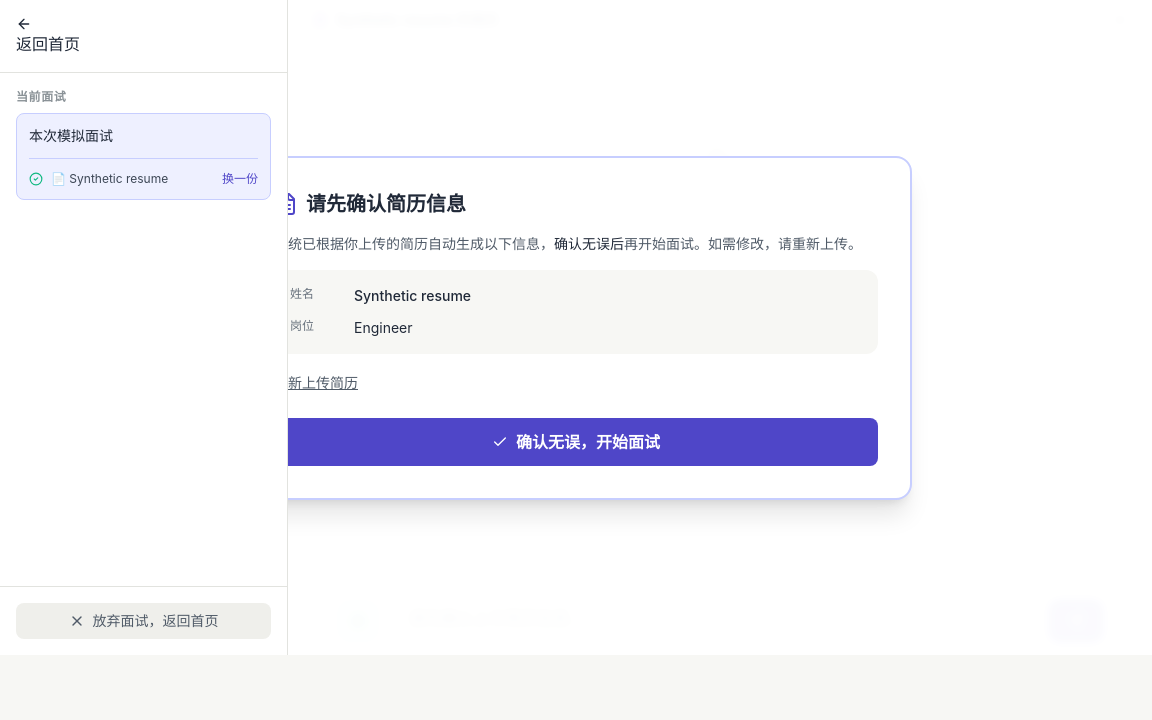
gates first answer on confirmed question protocol: valid
The width and height of the screenshot is (1152, 720).
Click the button "确认无误，开始面试" at (576, 442), box [274,418,878,466]
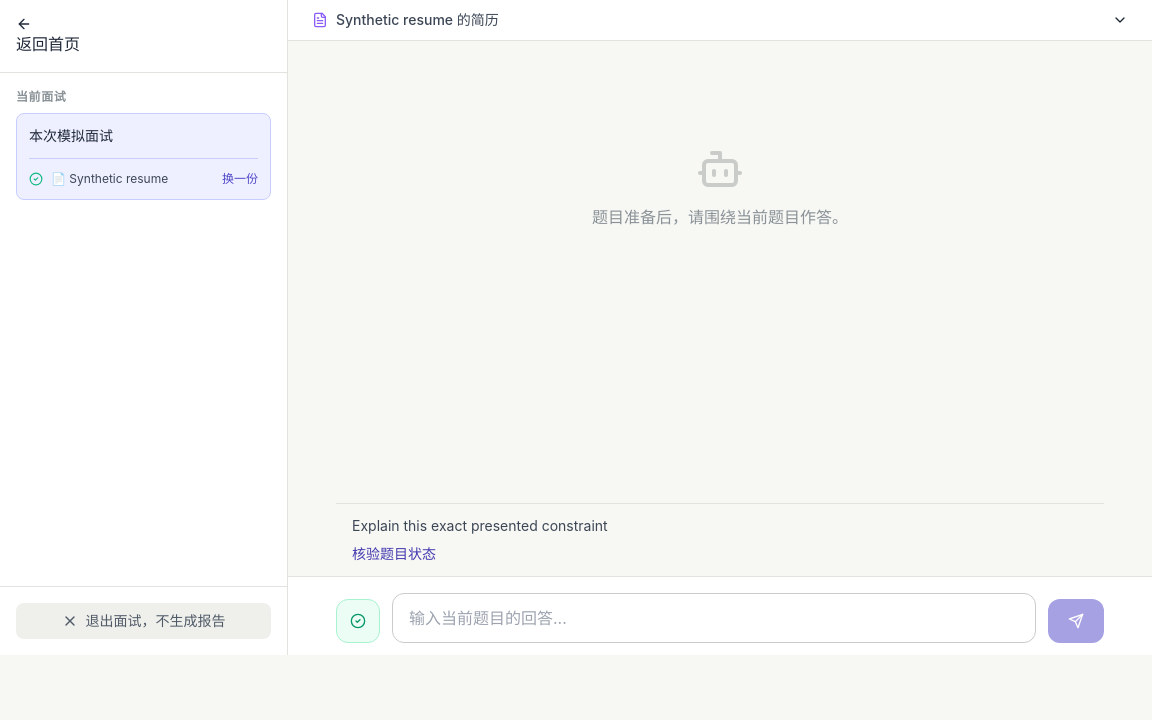
Expected: the text box is enabled, [392,593,1036,643]
Expected: the element named "当前题目" shows "Explain this exact presented constraint", [352,517,608,534]
